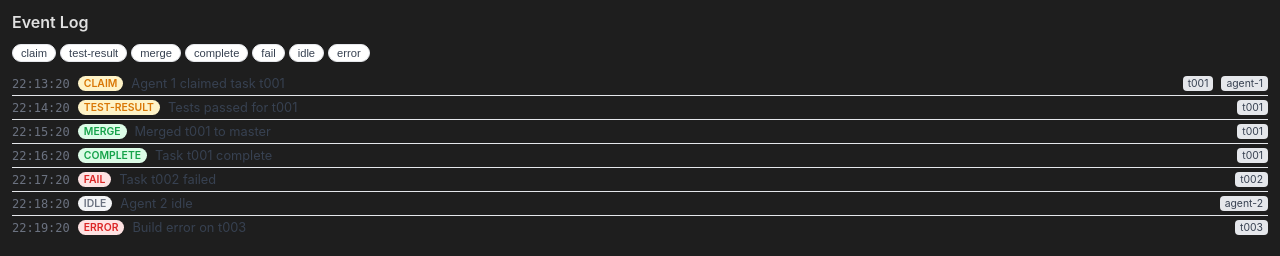
Test case: EventLog › should toggle event type back on when clicked again
The image size is (1280, 256).
Click the button "idle" at (306, 53), box x1=289 y1=44 x2=324 y2=62
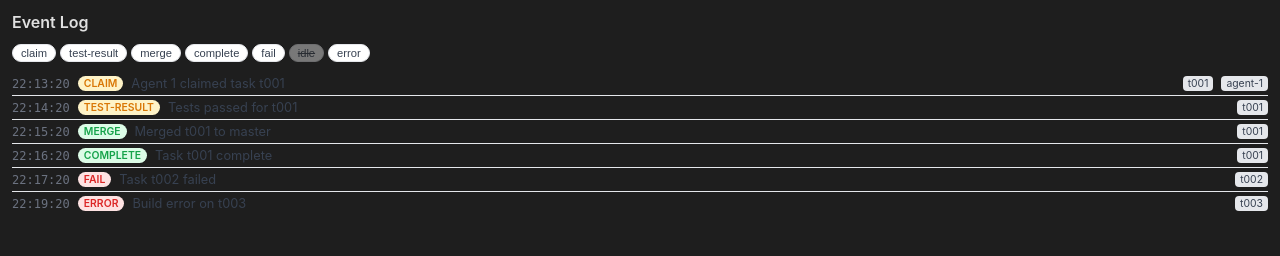
Click the button "idle" at (306, 53), box x1=289 y1=44 x2=324 y2=62
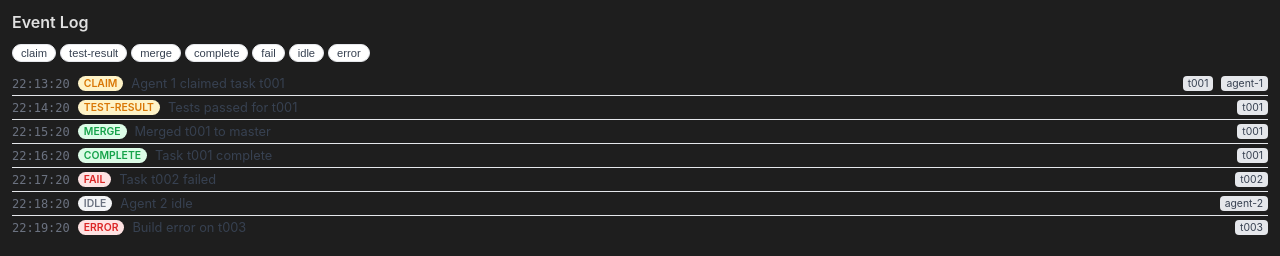
Expected: the number of elements with class "event-log-entry" is 7
